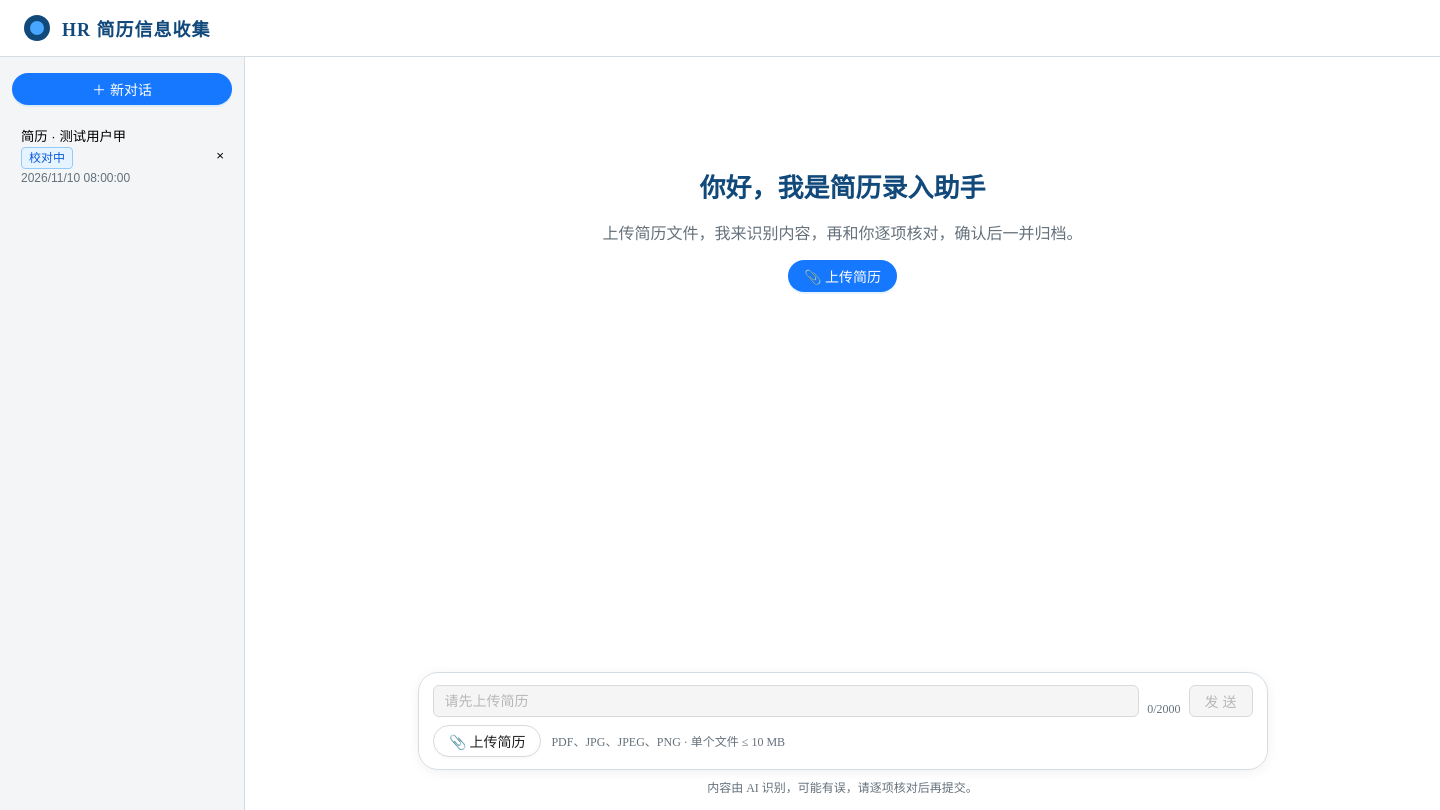
Test: chat: main path (REQ-FE-07.1-07.3) › discard puts the original text back into the input
Click the button "简历 · 测试用户甲 校对中 2026/11/10 08:00:00". click: (108, 156)
box: [12, 117, 204, 194]
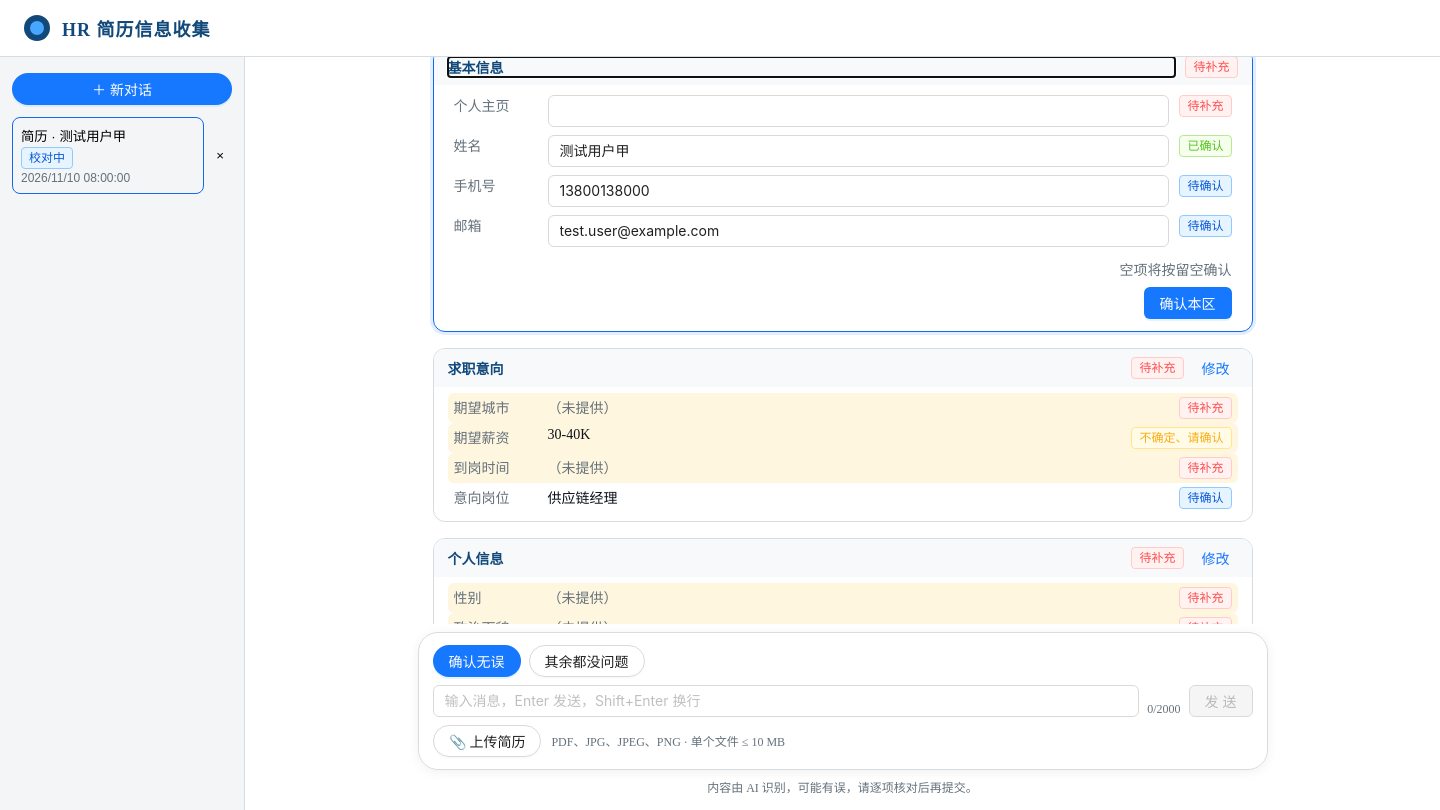
Expected: the heading "基本信息" is shown, [448, 61, 504, 76]
Type "原文" into the text box named "对话输入". click: (786, 701)
box: [432, 685, 1139, 717]
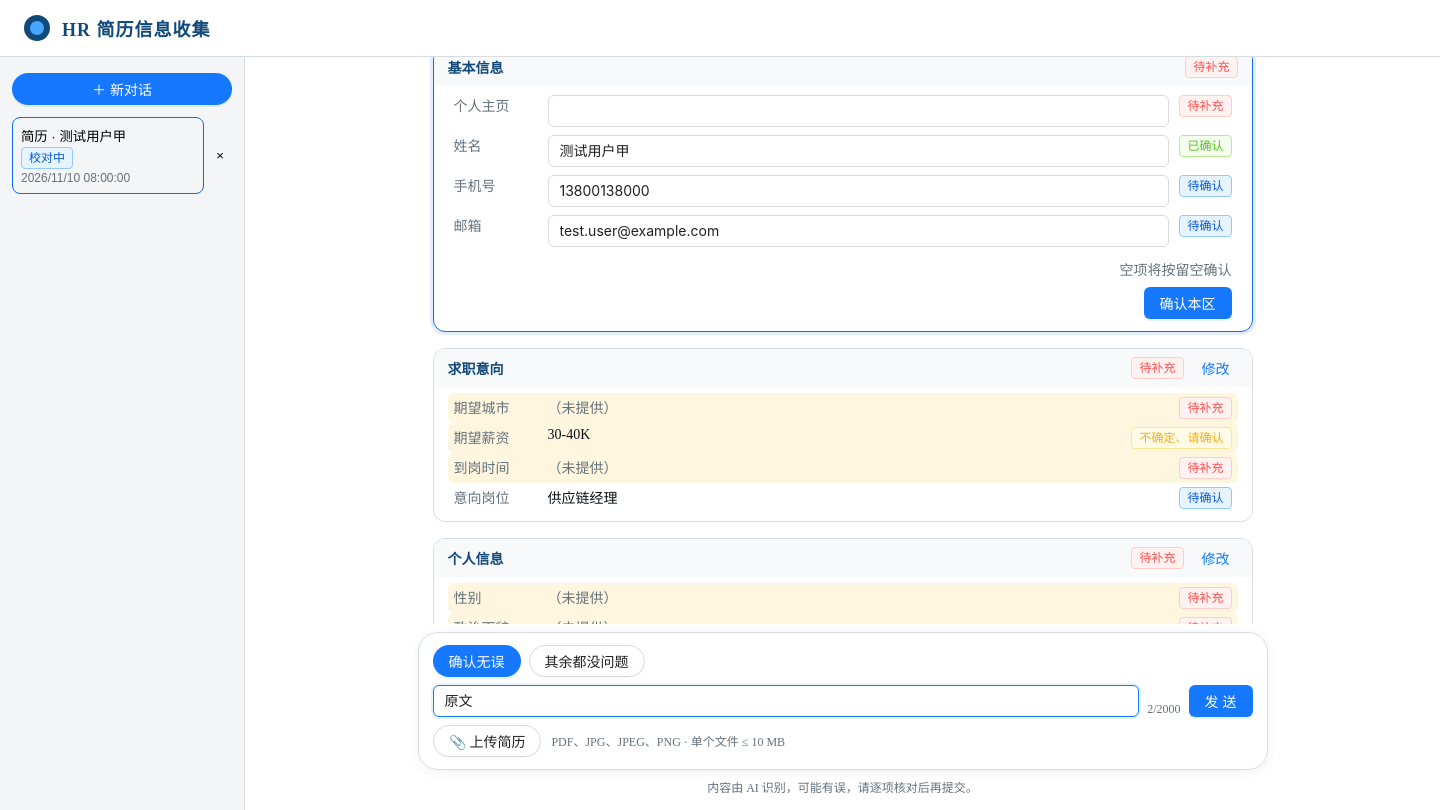
Click the button "发 送". click: (1221, 701)
box: [1189, 685, 1252, 717]
(page scrolled)
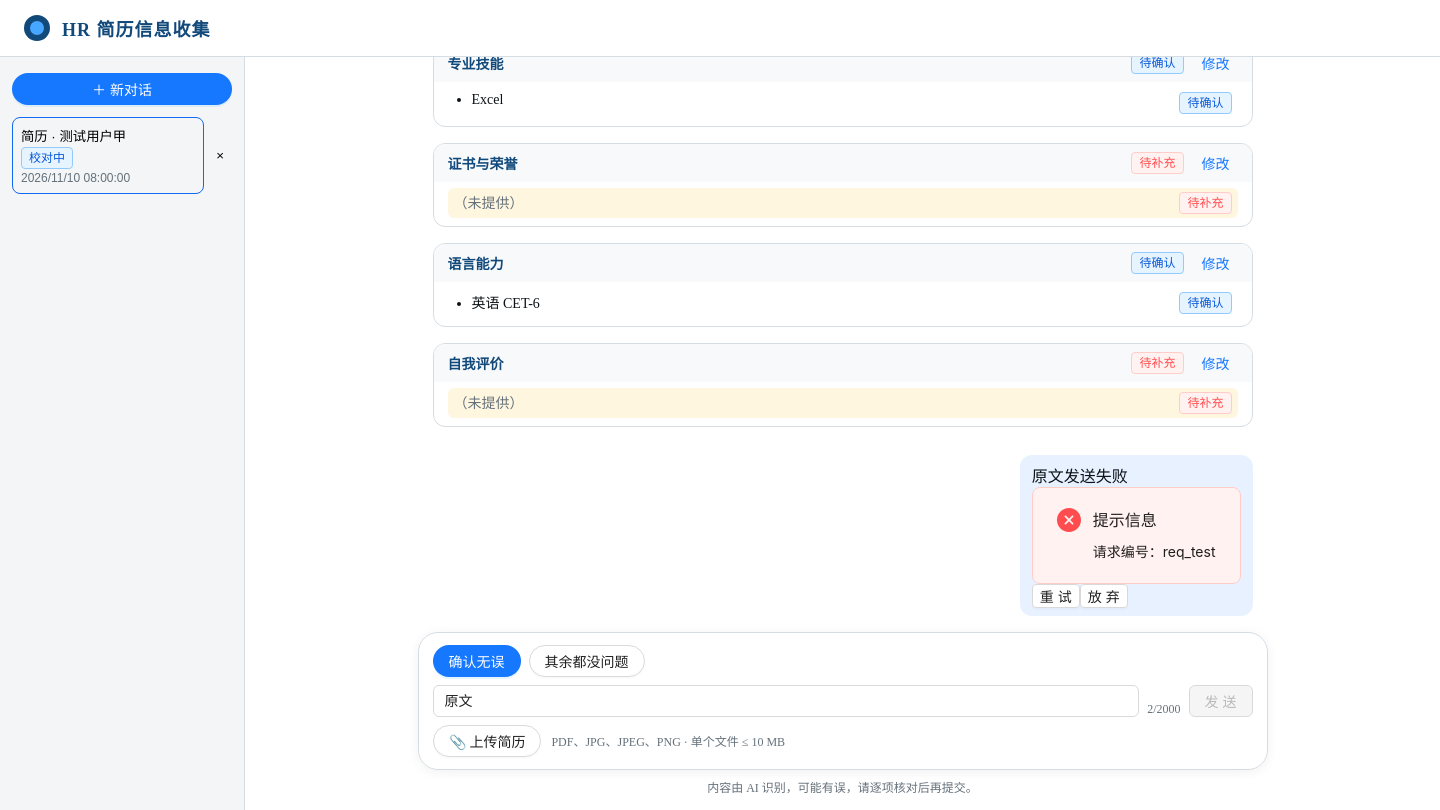
Click the button "放 弃". click: (1104, 596)
box: [1080, 584, 1128, 608]
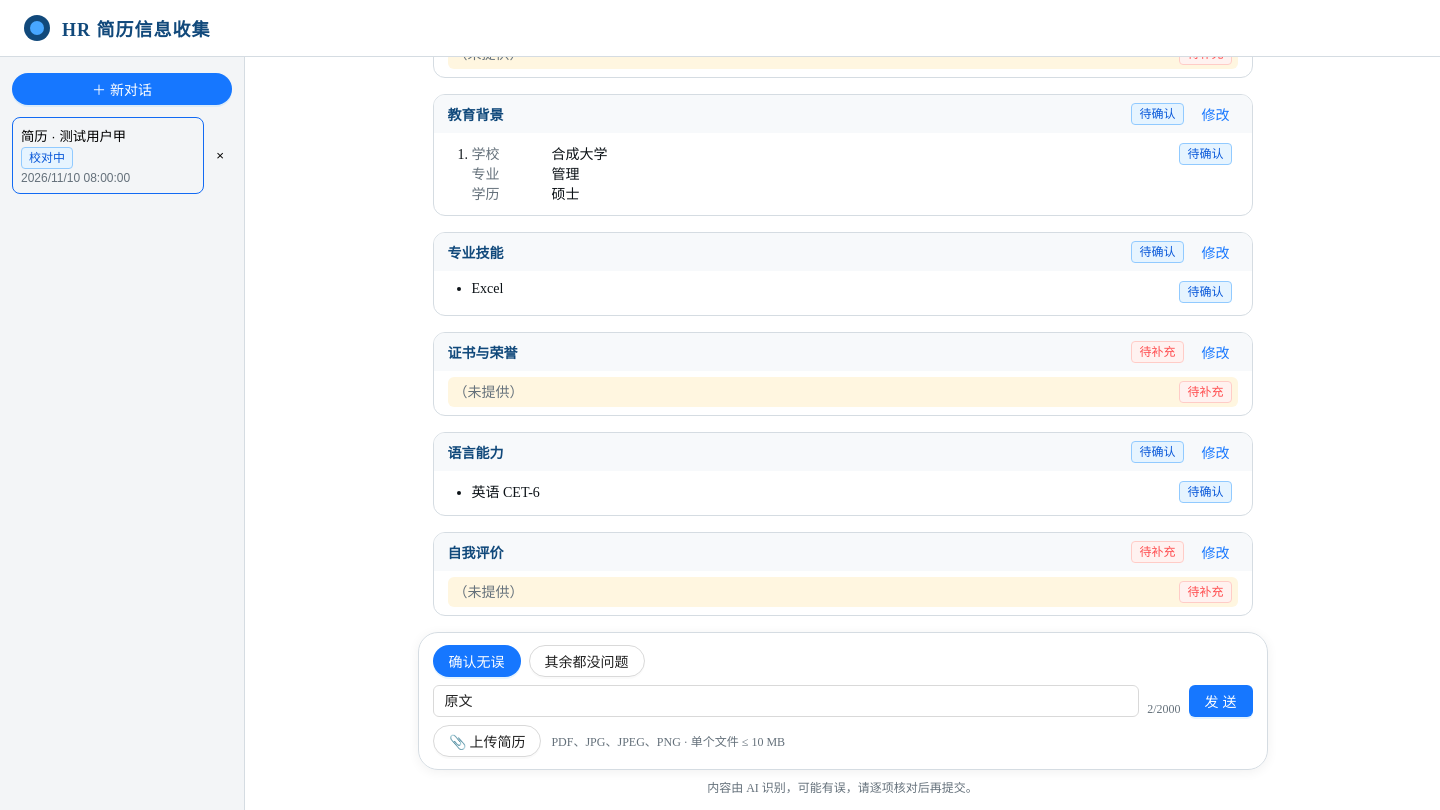
Expected: the button "重 试" is gone
